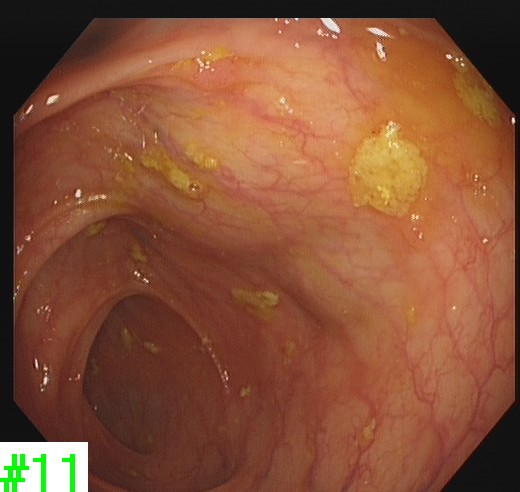adenoma: (175, 56, 249, 93)
